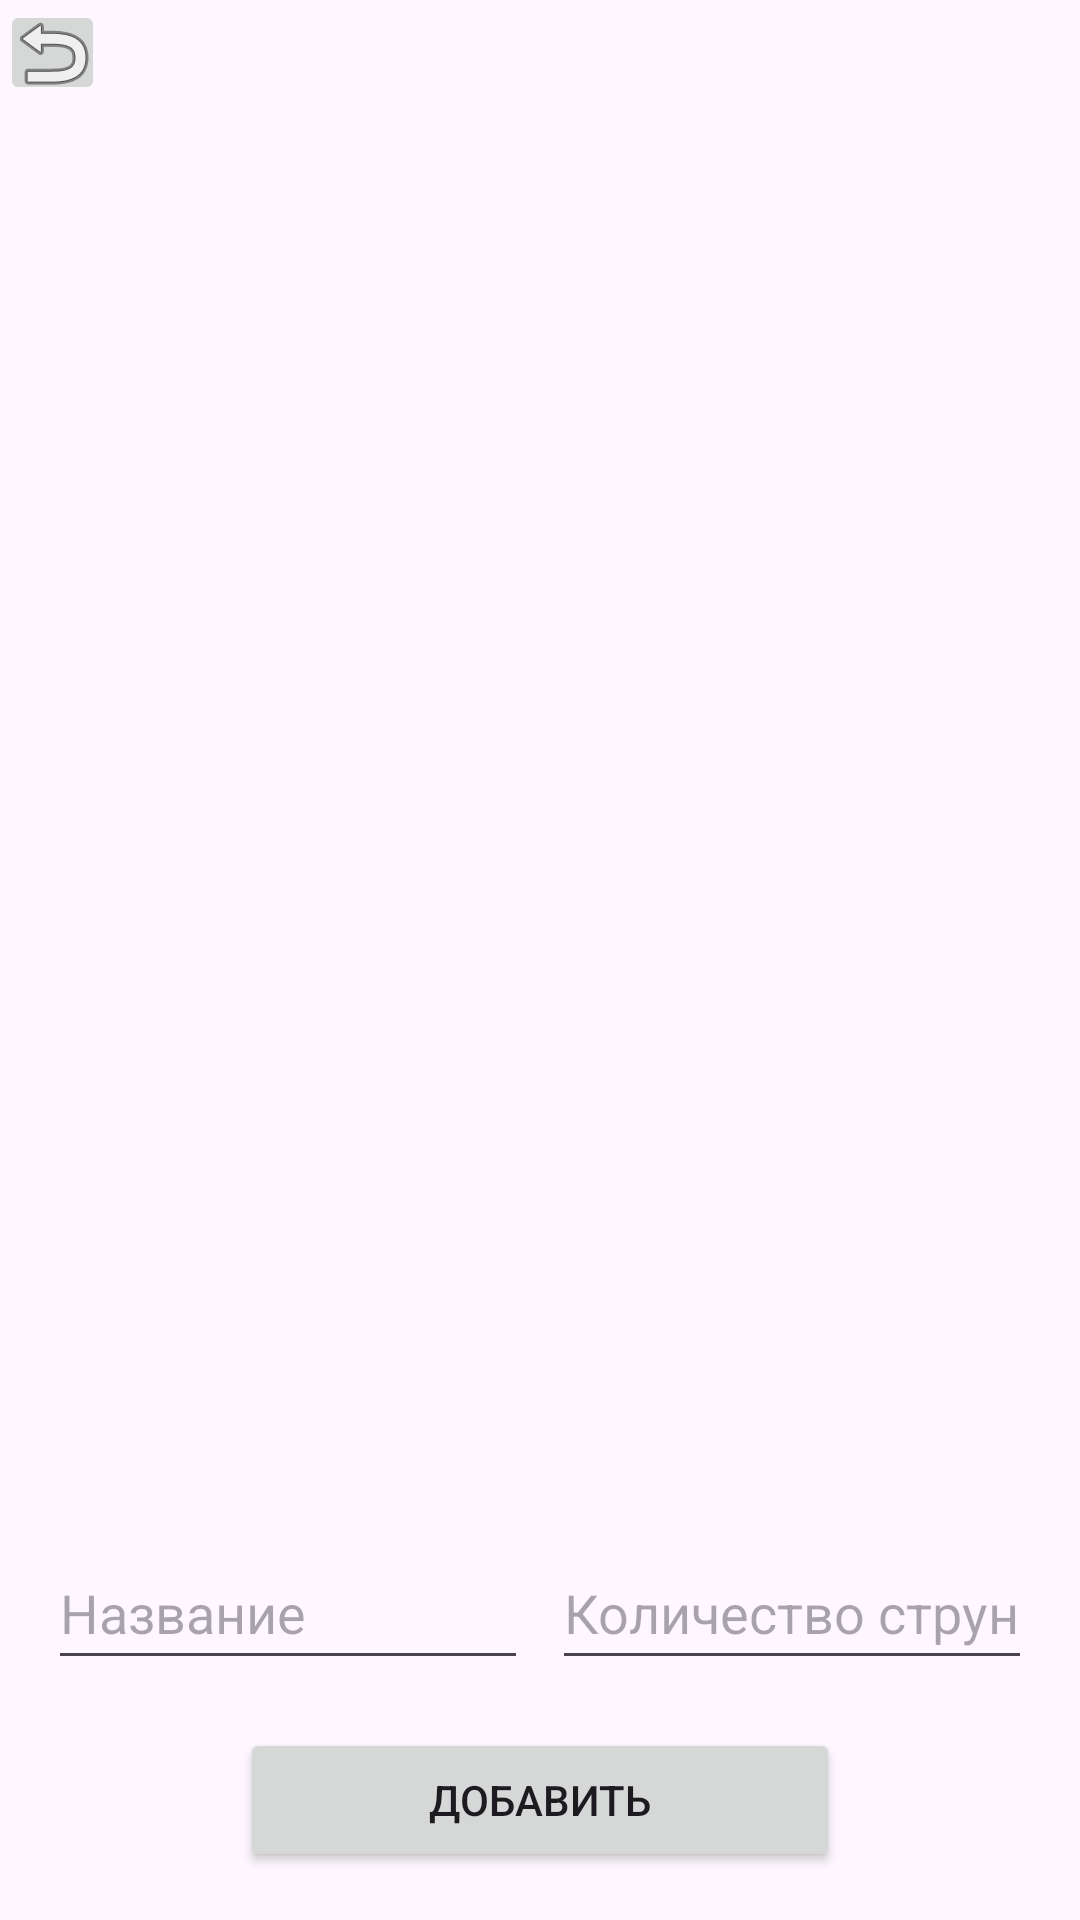

Screen size 1080w x 1920h. Icon name, then its box in pixels as BBox(x1, y1, x2, y2):
revert: BBox(12, 18, 93, 87)
